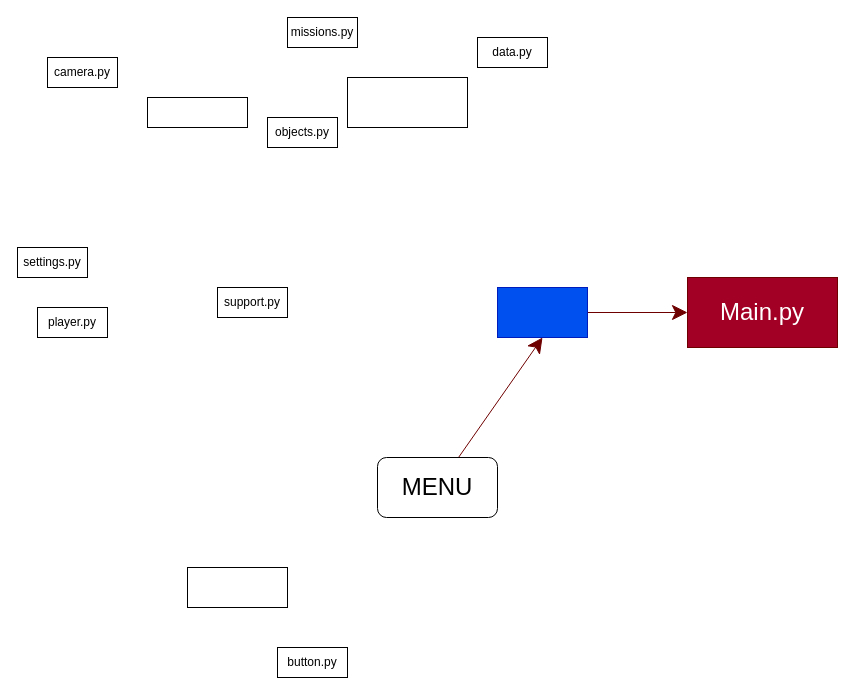
This 855x695 diagram has some shape labels left out. Each missing label, with the centre of its shape:
esc_menu.py: [197,112]
Level.py: [542,312]
start_menu.py: [237,587]
user_interface.py: [407,102]
